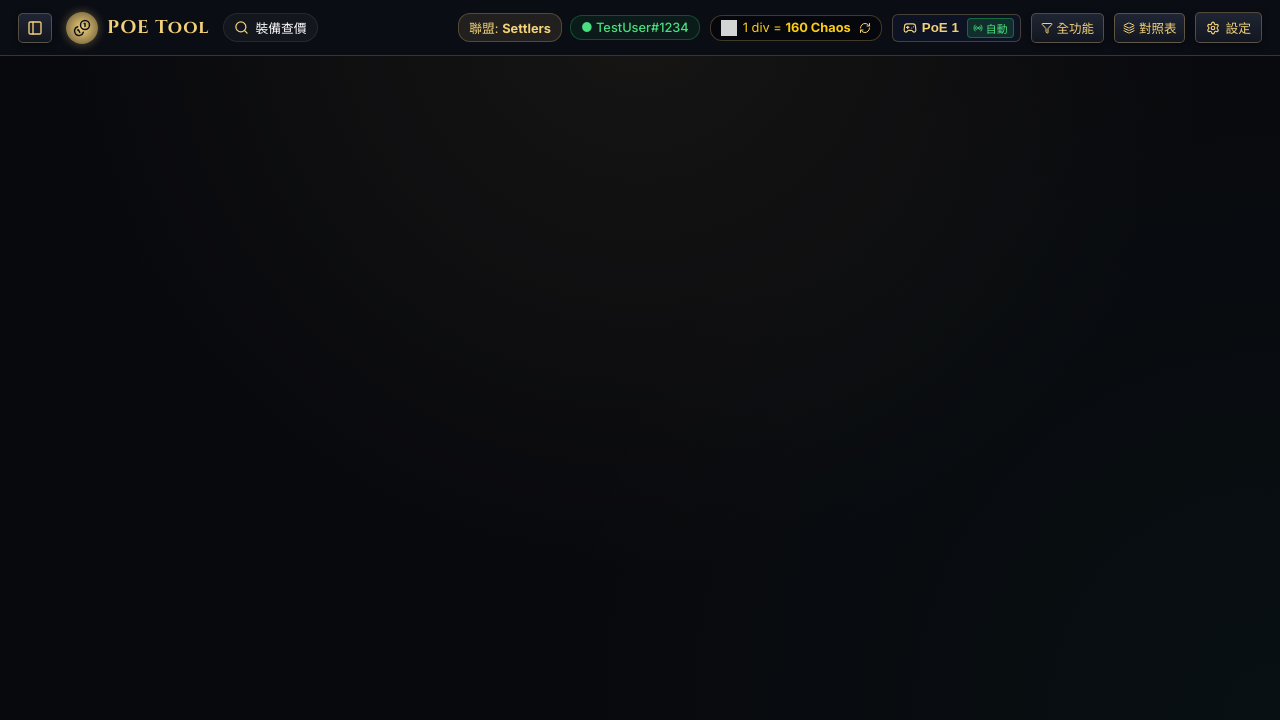
Test: Navbar Component › opens FeatureCapabilityMatrixModal when clicking capability matrix button
Check: the text "PoE 1 vs PoE 2 功能支援與世代能力對照表" is not shown
Step 1. Click the button "對照表" → click(1150, 28), box [1114,12,1185,42]
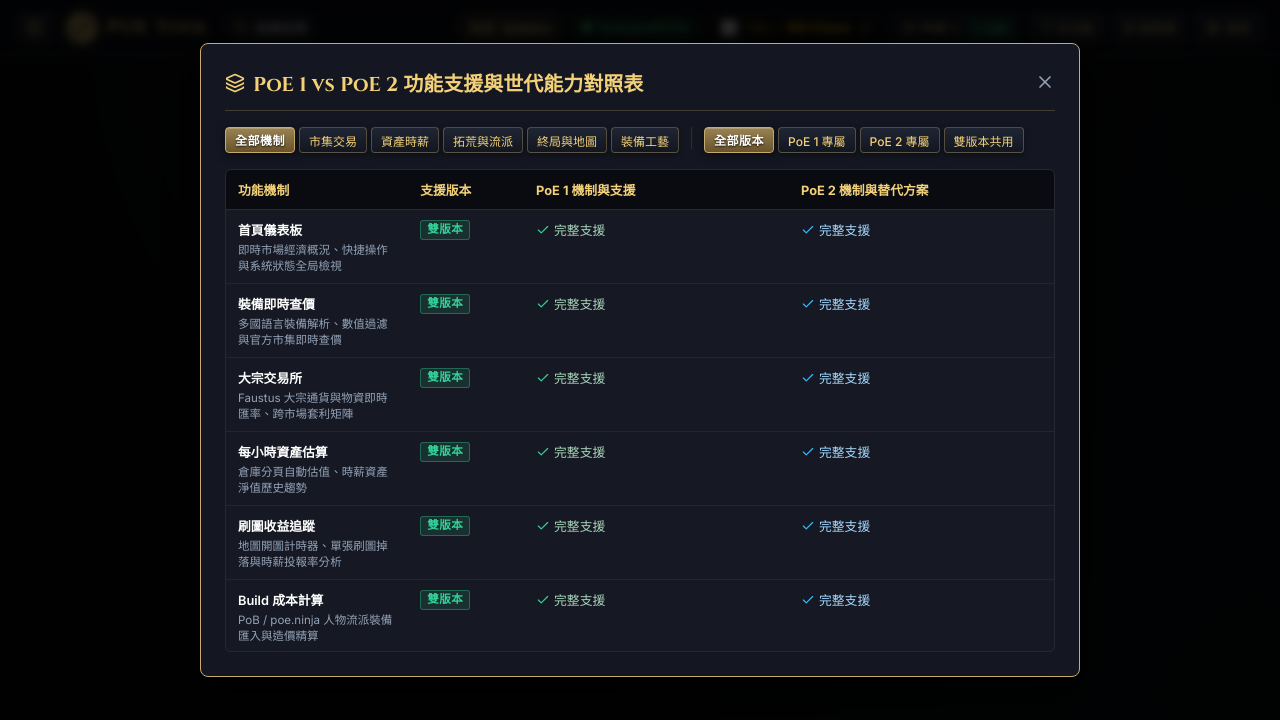
Check: the heading "PoE 1 vs PoE 2 功能支援與世代能力對照表" is shown, box [225,68,643,98]
